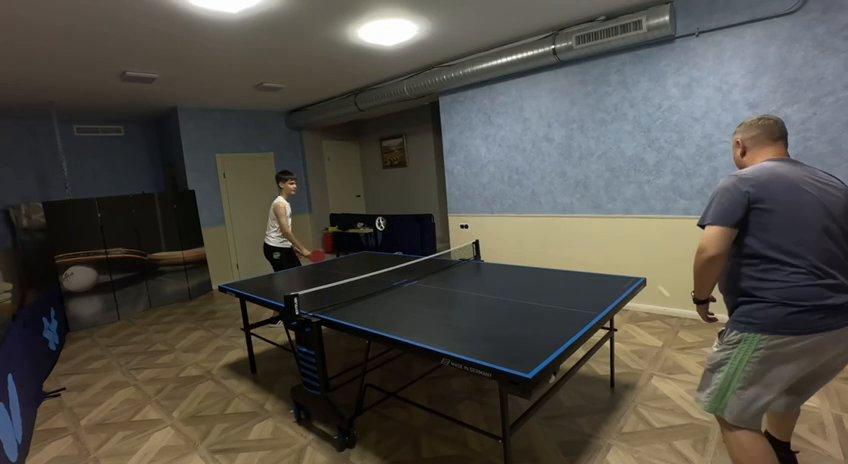Net: (285, 240, 481, 317)
Player1: (263, 170, 308, 270)
Player2: (693, 115, 847, 463)
Table: (221, 252, 644, 373)
